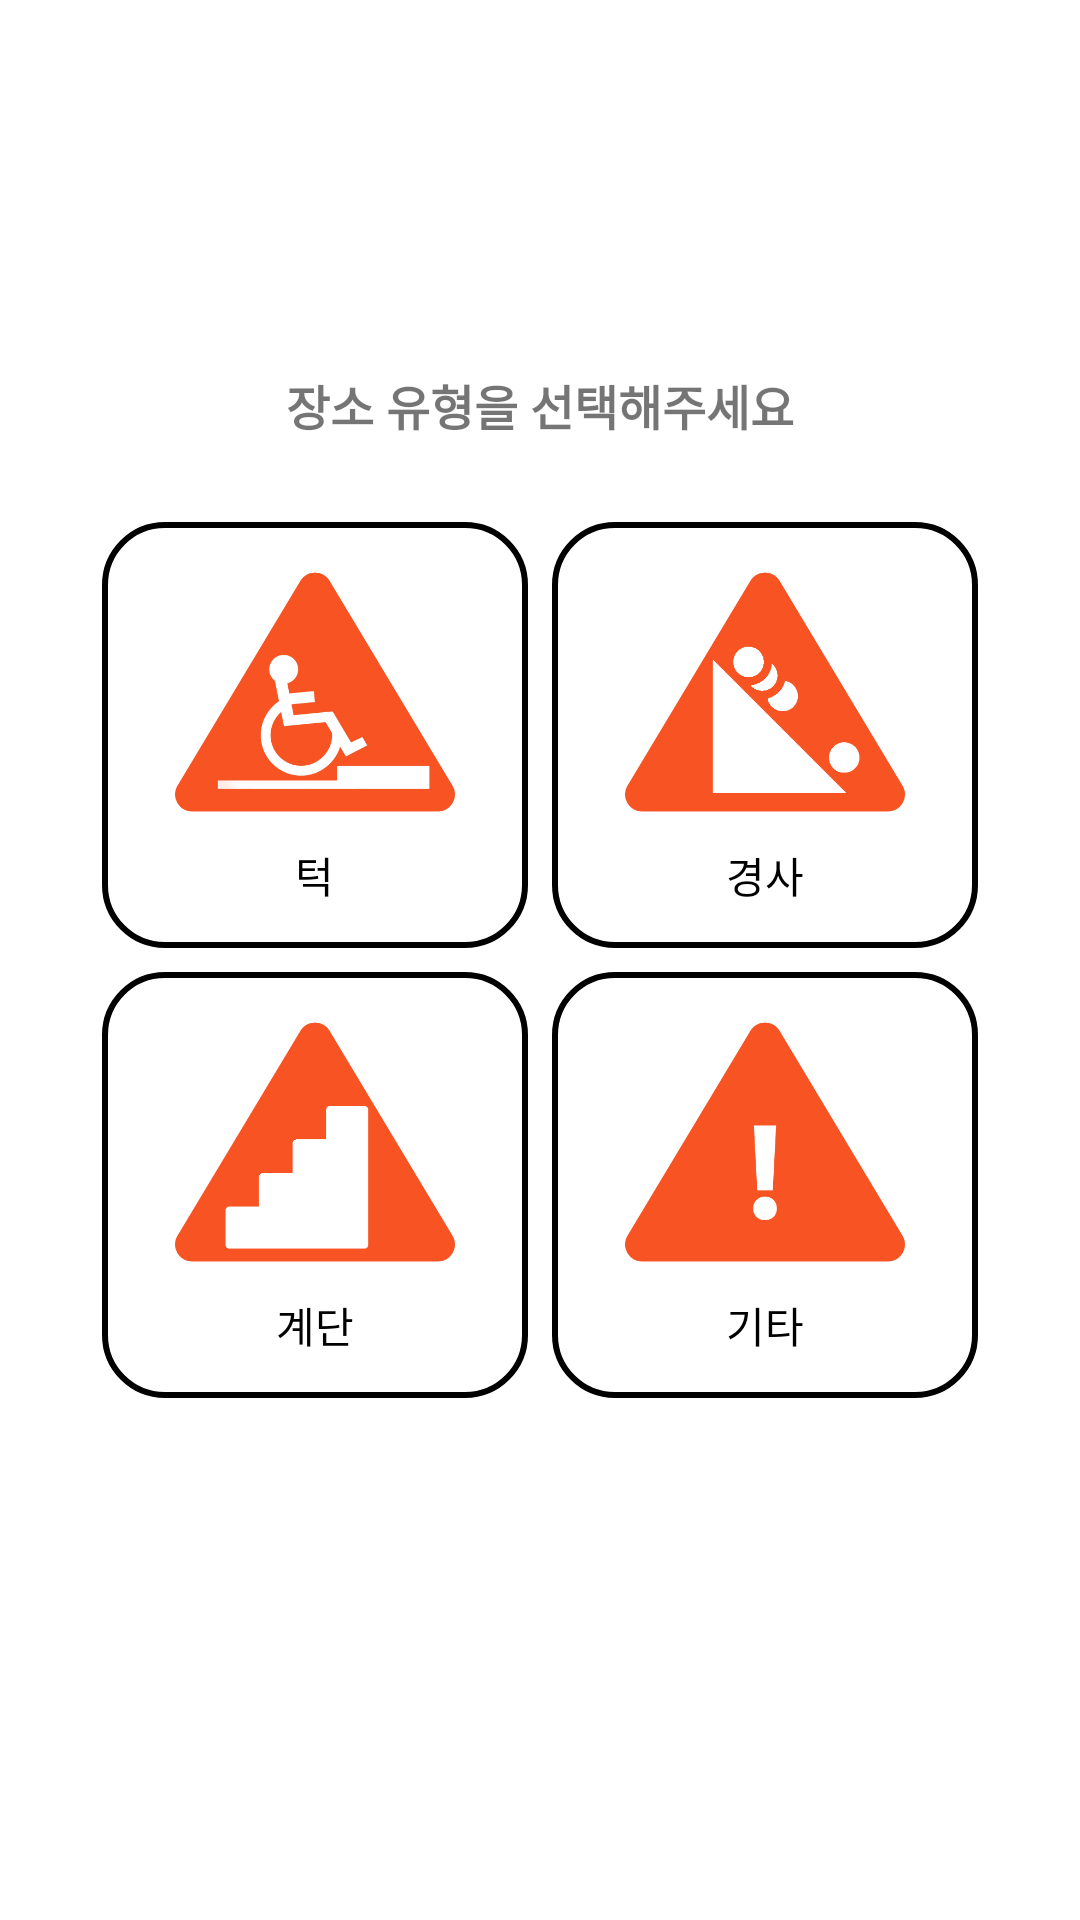

Where to tap for icons on this 1080px x 1920px app screen, as (x,y):
block: (315,692)
warning: (765,1142)
